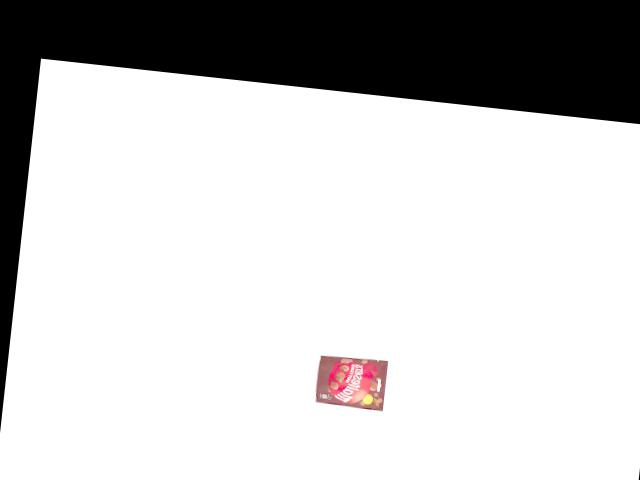chocolate: (312, 352, 389, 411)
